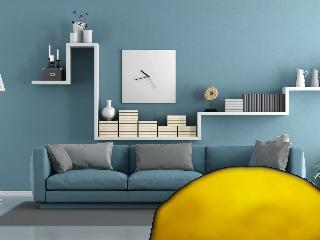lemon: (155, 168, 320, 240)
